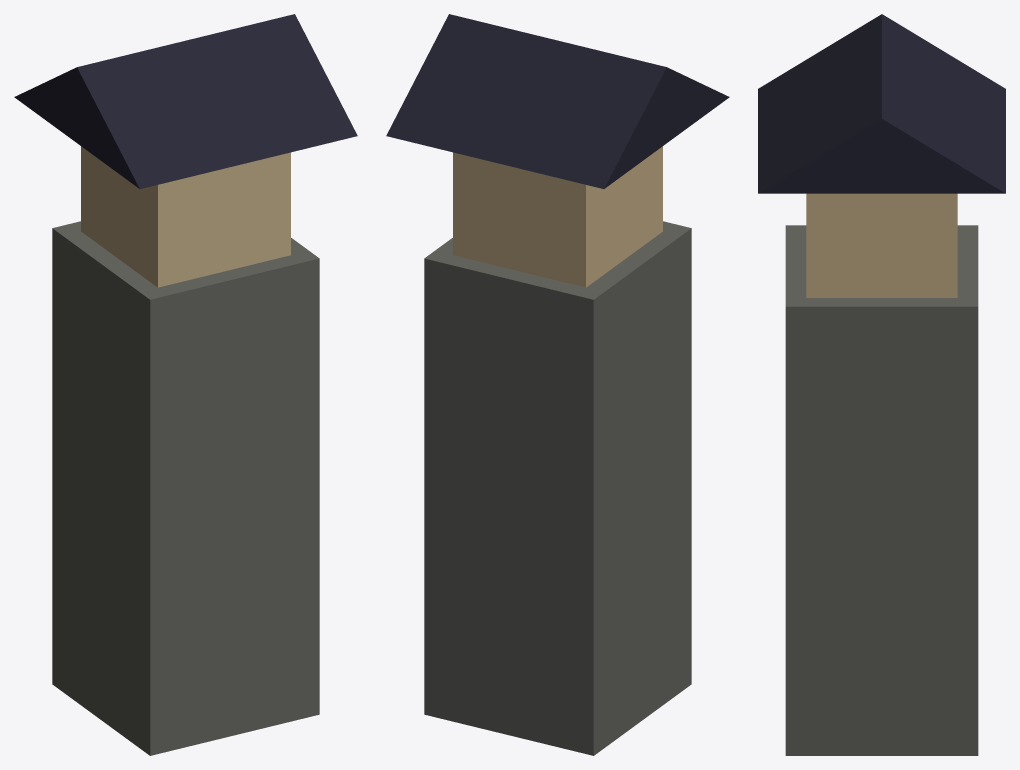
The model's file is hanok_chimney.glb.
3 views of the same model, side by side, from view 1: azimuth 30°, elevation 25°; view 2: azimuth 150°, elevation 25°; view 3: azimuth 270°, elevation 25° (orthographic).
Parts seen in each view (by area): view 1: hanok_chimney; view 2: hanok_chimney; view 3: hanok_chimney.
Boxes of the visible parts, box(x1,y1,x2,y2) form: hanok_chimney: box(14, 14, 357, 755); hanok_chimney: box(386, 14, 729, 755); hanok_chimney: box(758, 14, 1005, 755).
Size of the model in its own units: 0.9 by 2.6 by 0.9.
